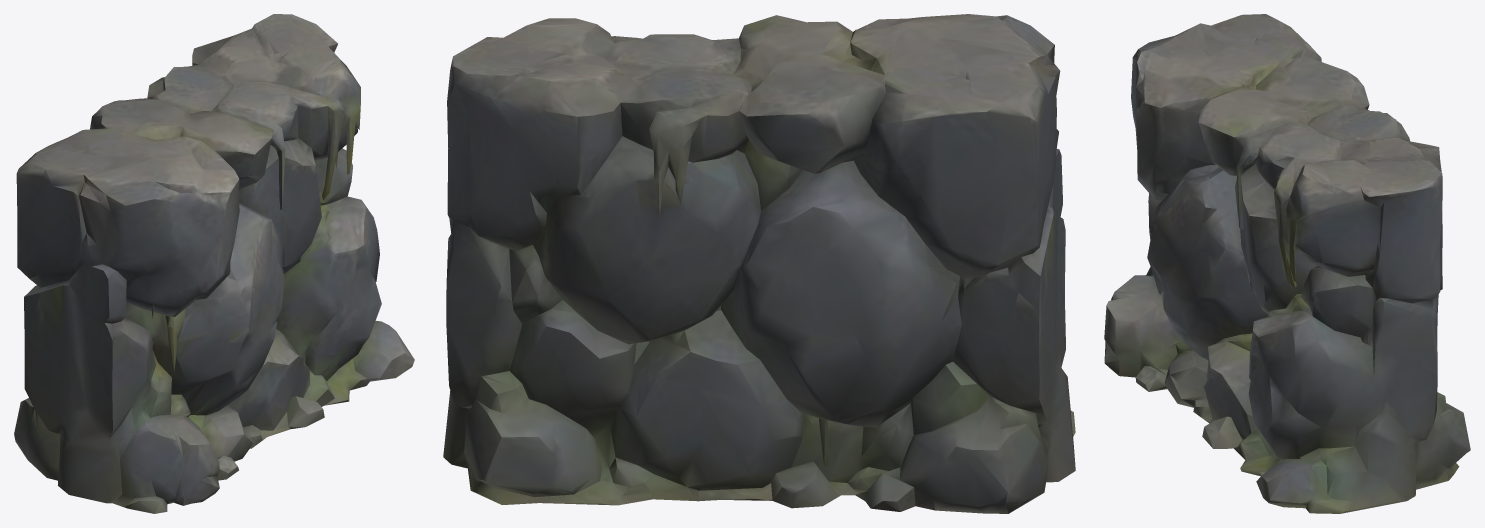
Rendered from cueva_esquina_ext.glb.
3 views of the same model, side by side, from view 1: azimuth 30°, elevation 25°; view 2: azimuth 150°, elevation 25°; view 3: azimuth 270°, elevation 25° (orthographic). The views are drawn at different scales.
Parts seen in each view (by area): view 1: cueva_esquina_ext_malla; view 2: cueva_esquina_ext_malla; view 3: cueva_esquina_ext_malla.
Part boxes in pixels (x1=…): cueva_esquina_ext_malla: x1=14, y1=14, x2=414, y2=513; cueva_esquina_ext_malla: x1=443, y1=14, x2=1075, y2=513; cueva_esquina_ext_malla: x1=1104, y1=14, x2=1470, y2=513.
Bounding box in the file's own units: 0.4589 × 0.3352 × 0.3588.
Materials: 1 (1 with a texture image).
